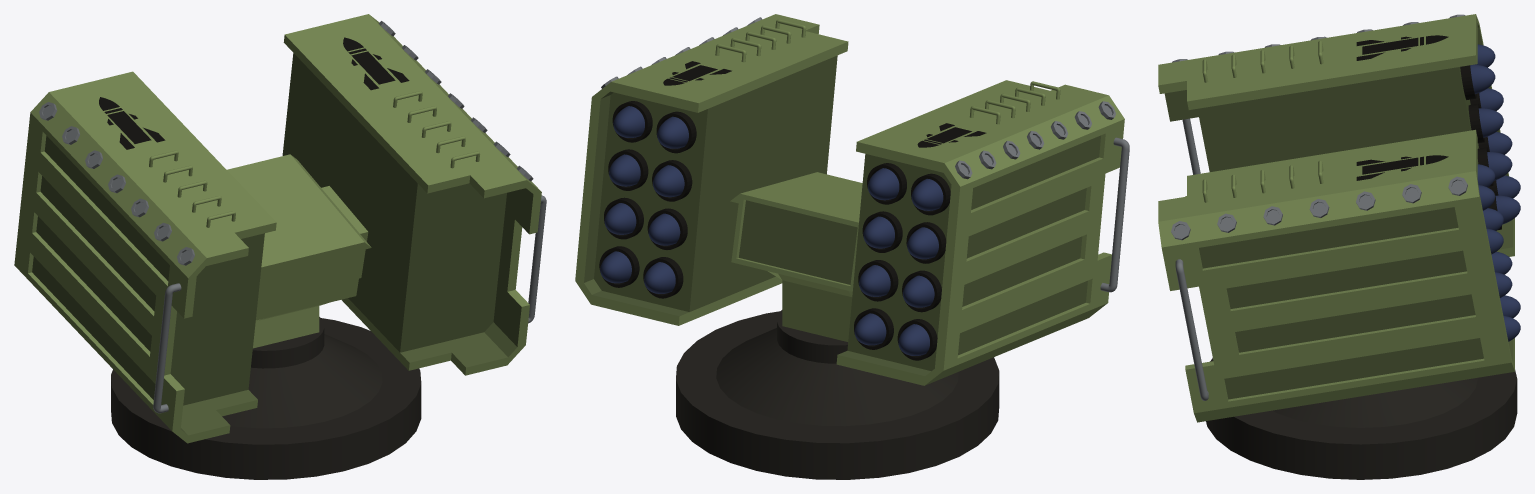
The model's file is bomber_BBB.fbx.
The picture shows the model from 3 angles, left to right: view 1: azimuth 30°, elevation 25°; view 2: azimuth 150°, elevation 25°; view 3: azimuth 270°, elevation 25°; orthographic projection. The views are drawn at different scales.
Parts seen in each view (by area): view 1: Plane.005, Circle, Plane.006, Circle.002, Plane.002, NurbsPath, NurbsPath.001; view 2: Plane.005, Circle, Plane.006, Sphere, Circle.001, NurbsPath.001, Circle.002, NurbsPath, Plane.002; view 3: Plane.005, Circle, Sphere, Circle.002, Plane.002, NurbsPath, Circle.001, NurbsPath.001.
Boxes of the visible parts, x1,y1,x2,y2 form: Plane.005: [14, 14, 541, 443]; Circle: [111, 317, 421, 479]; Plane.006: [227, 154, 371, 348]; Circle.002: [39, 21, 533, 265]; Plane.002: [99, 37, 409, 149]; NurbsPath: [153, 195, 546, 413]; NurbsPath.001: [149, 91, 479, 227]; Plane.005: [575, 14, 1124, 385]; Circle: [676, 310, 999, 479]; Plane.006: [730, 172, 862, 341]; Sphere: [600, 106, 943, 355]; Circle.001: [599, 101, 950, 360]; NurbsPath.001: [715, 19, 1060, 124]; Circle.002: [601, 17, 1115, 179]; NurbsPath: [1100, 137, 1129, 292]; Plane.002: [663, 61, 986, 147]; Plane.005: [1158, 14, 1514, 422]; Circle: [1206, 358, 1517, 479]; Sphere: [1470, 44, 1520, 341]; Circle.002: [1171, 14, 1467, 240]; Plane.002: [1356, 35, 1448, 180]; NurbsPath: [1175, 118, 1208, 400]; Circle.001: [1460, 65, 1501, 229]; NurbsPath.001: [1202, 41, 1323, 202].
Bounding box in the file's own units: 226 × 181 × 185.
